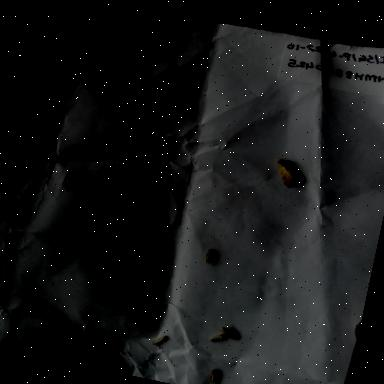pbw: (54, 164, 80, 192), (216, 320, 242, 342), (198, 244, 219, 268), (150, 330, 170, 350), (207, 328, 229, 346), (205, 367, 224, 384)
